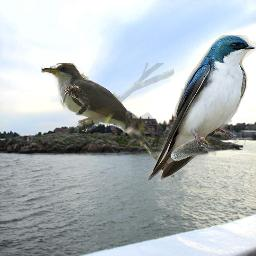Cuckoo: (41, 63, 174, 177)
Swallow: (147, 35, 256, 182)
